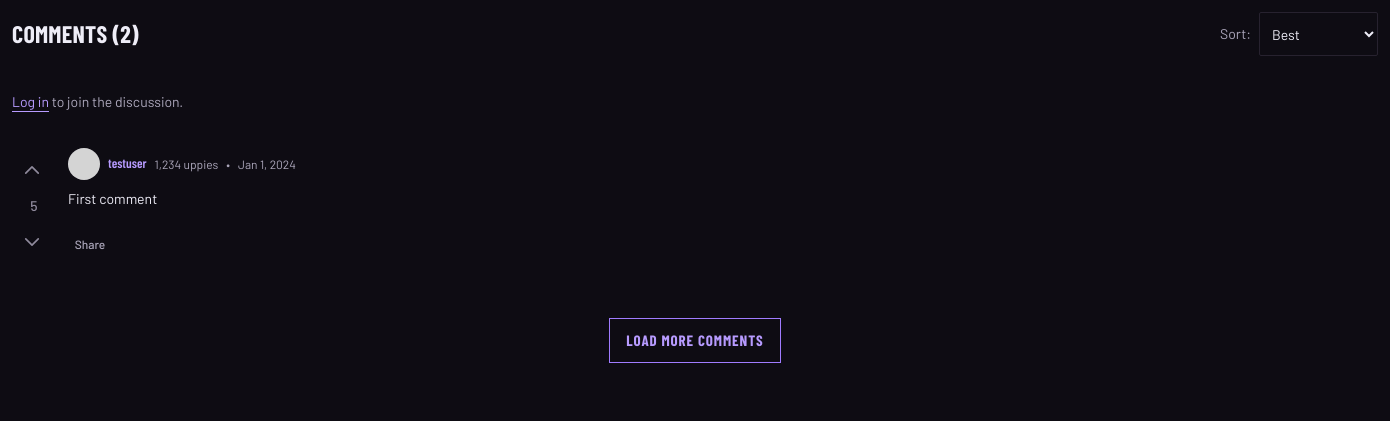
Test: CommentSection › Pagination › should load next page when "Load More" is clicked
Expected: the text "First comment" is shown, [68,190,157,207]
Click the button "Load More Comments" at (695,341), box [609,318,781,363]
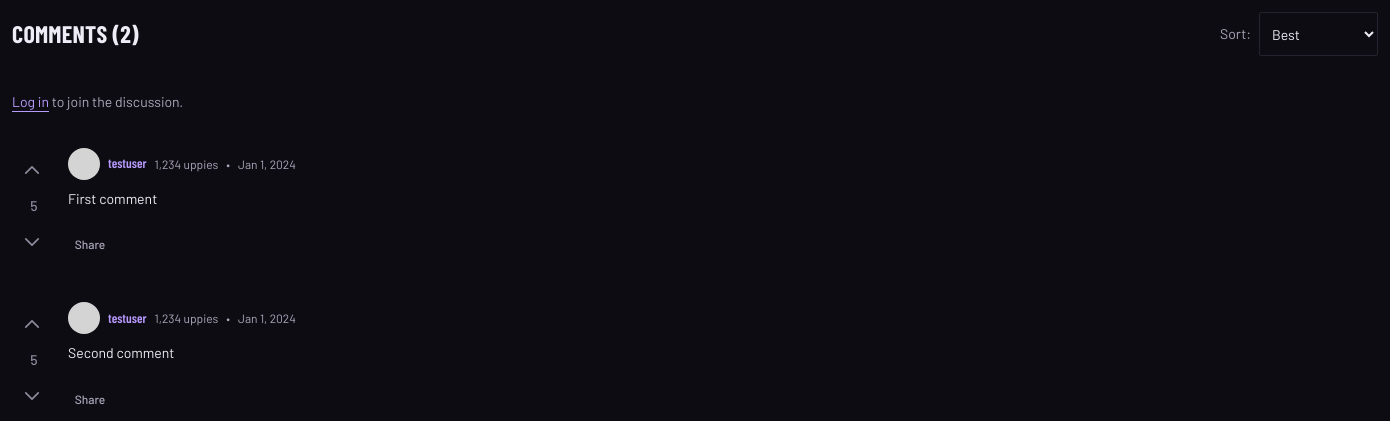
Expected: the text "First comment" is shown, [68,190,157,207]
Expected: the text "Second comment" is shown, [68,344,174,361]
